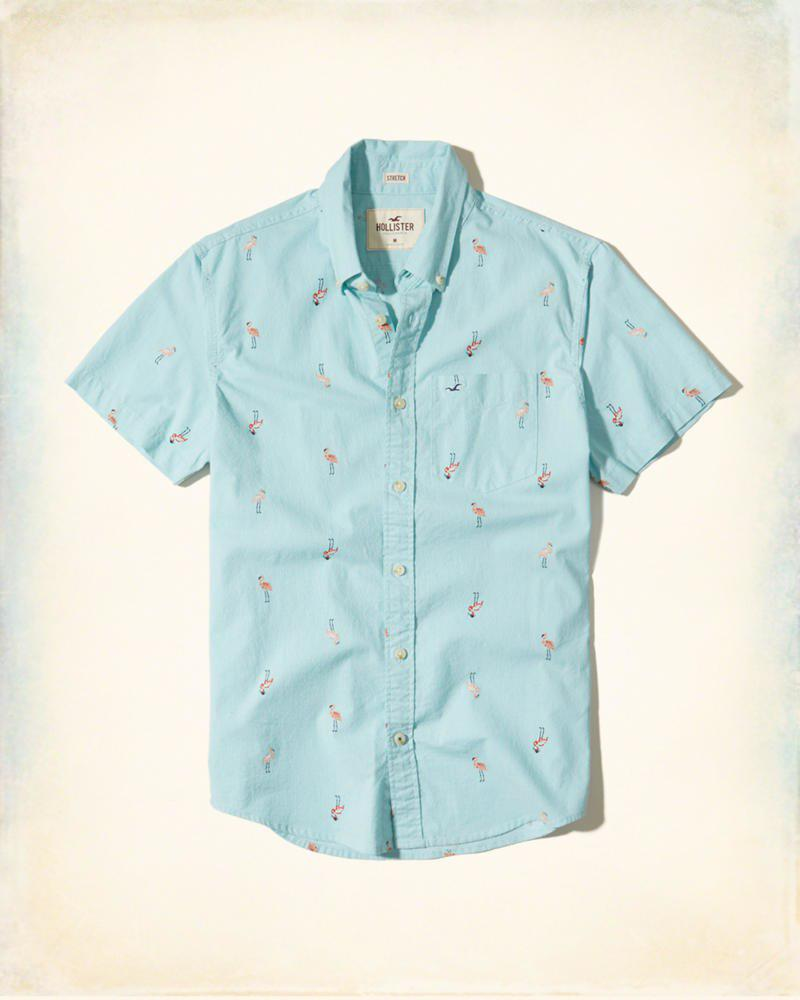teeshirt: (79, 128, 747, 848)
